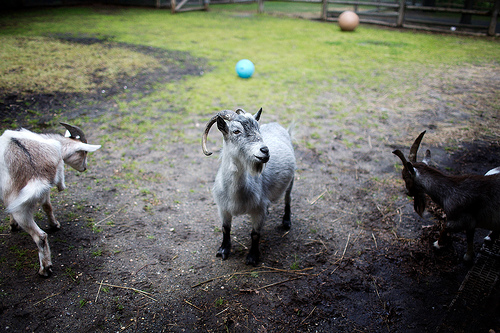goat: (1, 121, 101, 279), (201, 108, 300, 266), (391, 129, 500, 263)
